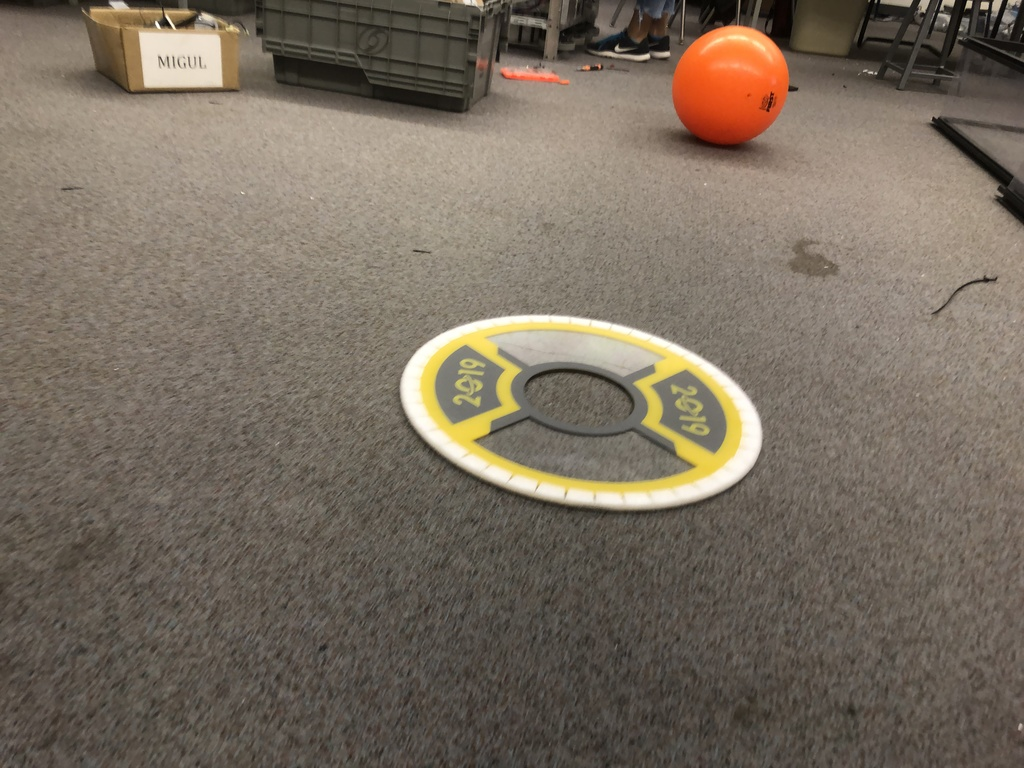hatch_panel: (395, 303, 781, 532)
